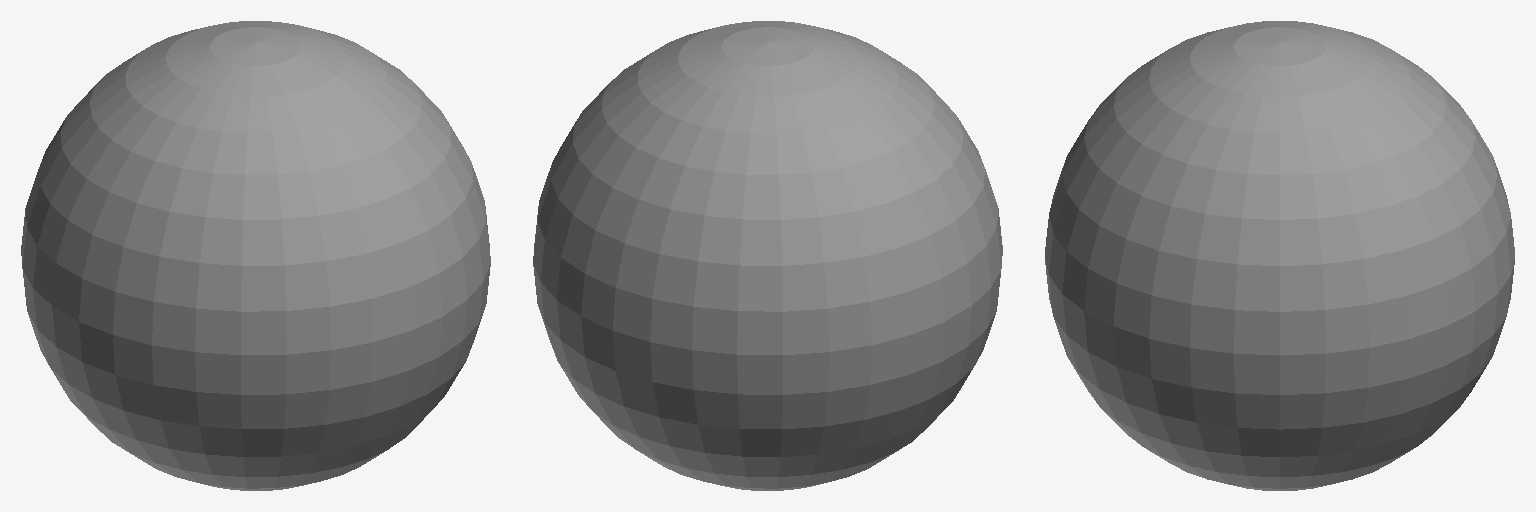
The model's file is ball.obj.
3 views of the same model, side by side, from view 1: azimuth 30°, elevation 25°; view 2: azimuth 150°, elevation 25°; view 3: azimuth 270°, elevation 25° (orthographic).
Visible parts, largest first — view 1: Sphere; view 2: Sphere; view 3: Sphere.
Boxes of the visible parts, x1=… form: Sphere: x1=21, y1=21, x2=490, y2=490; Sphere: x1=533, y1=21, x2=1002, y2=490; Sphere: x1=1045, y1=21, x2=1514, y2=490.
Bounding box in the file's own units: 0.5 × 0.5 × 0.5.